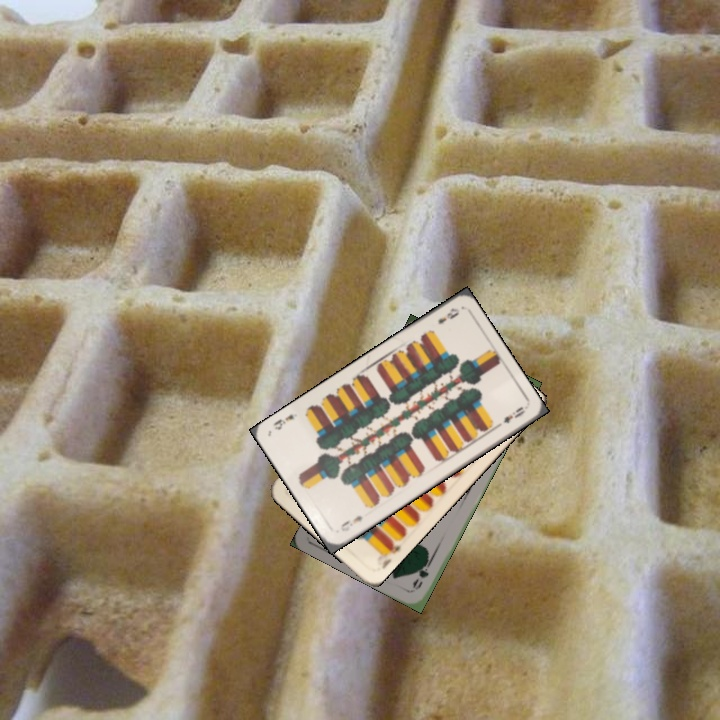E10: (382, 537, 404, 557)
E9: (336, 511, 365, 534), (434, 304, 462, 326)
GO: (408, 553, 435, 593)
